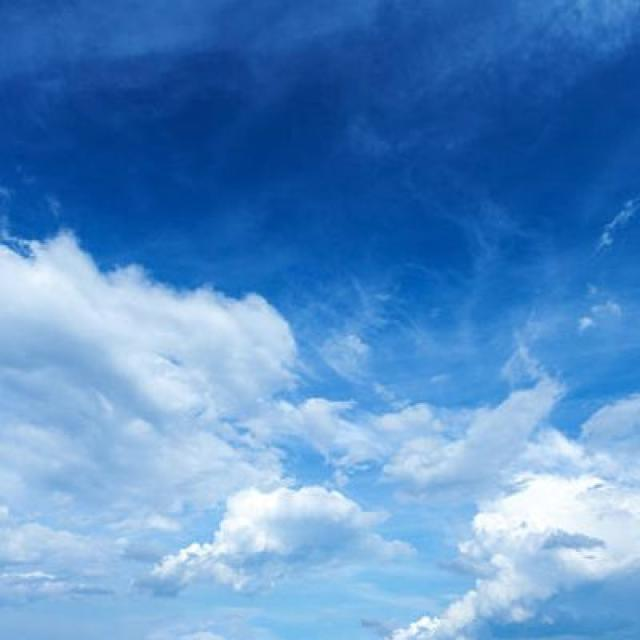Cu: (1, 138, 640, 564)
